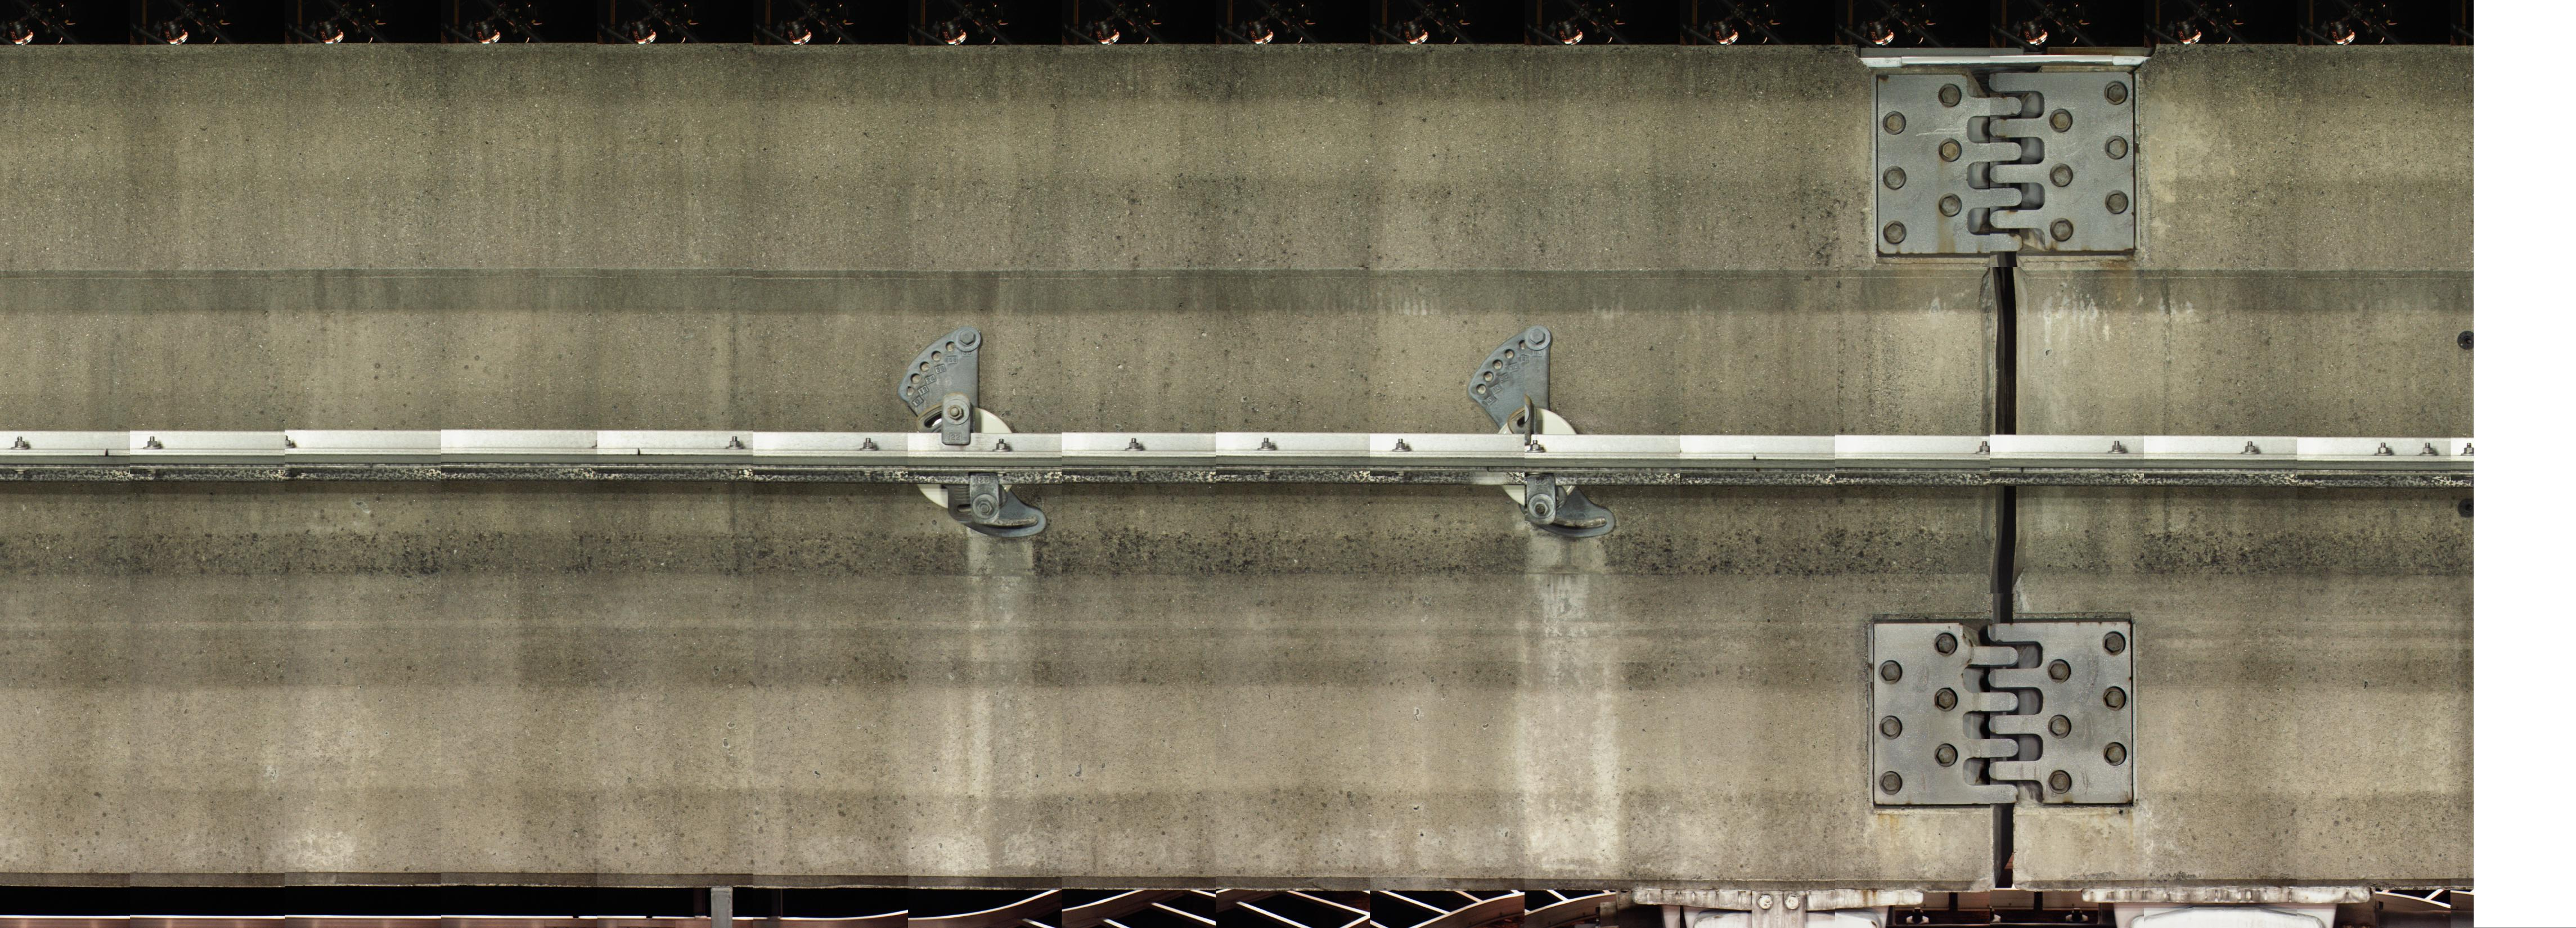concrete: (2, 480, 1998, 885), (0, 43, 1991, 434), (2012, 483, 2469, 889), (2014, 39, 2469, 445)
